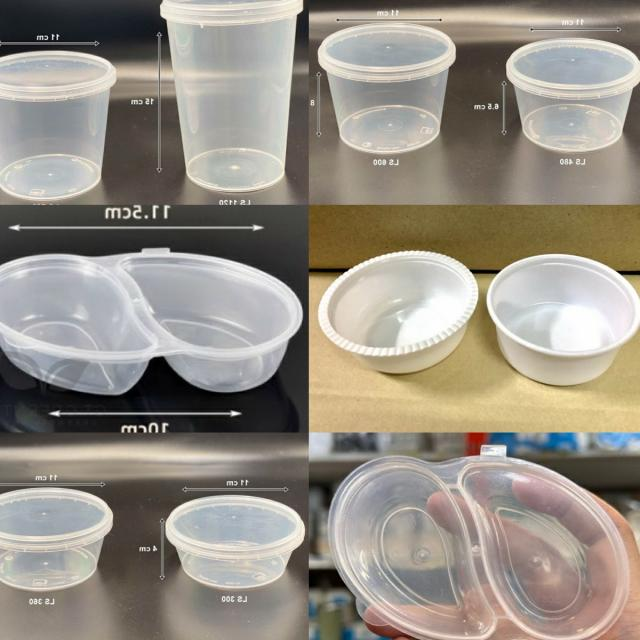plastik: (330, 448, 630, 640), (0, 251, 303, 395), (160, 0, 303, 191), (487, 255, 640, 385), (318, 251, 478, 373), (318, 22, 455, 155), (0, 52, 116, 199), (506, 38, 640, 153), (166, 495, 305, 588), (0, 488, 112, 591)
